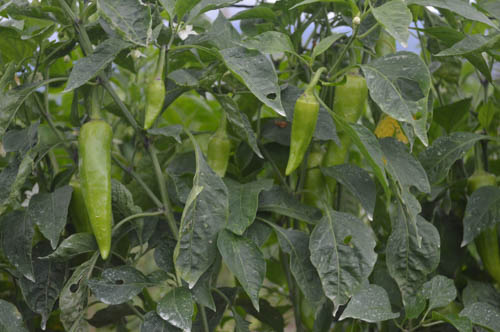ChiliPepper: (77, 122, 118, 261), (324, 76, 366, 192), (465, 176, 499, 278), (283, 98, 316, 179), (200, 134, 231, 184), (139, 80, 166, 137), (67, 182, 91, 238), (301, 159, 323, 208)
